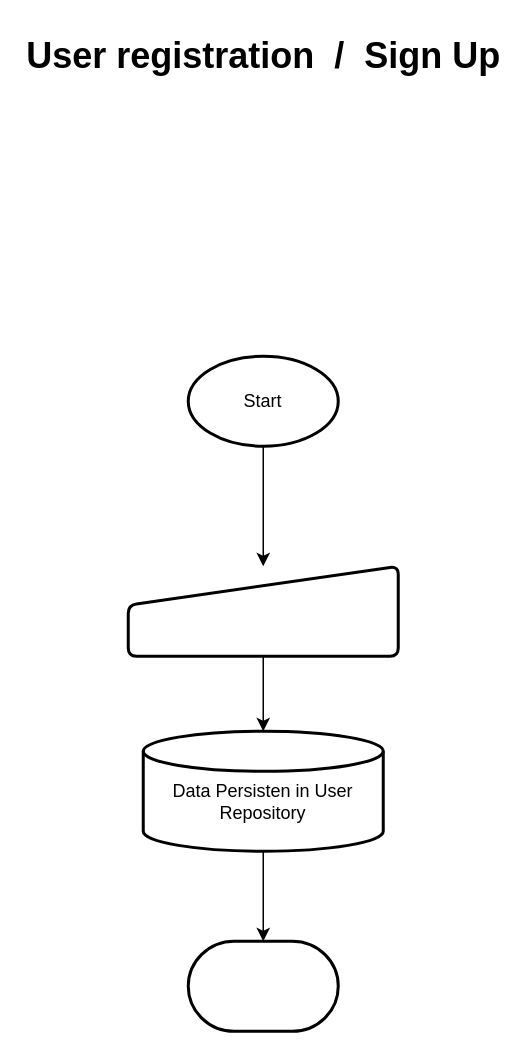
Image size: 525x1058. Some labels were removed from this diagram. Each missing label, with the centre of its shape:
End: point 262,985
Registration: point 262,610
